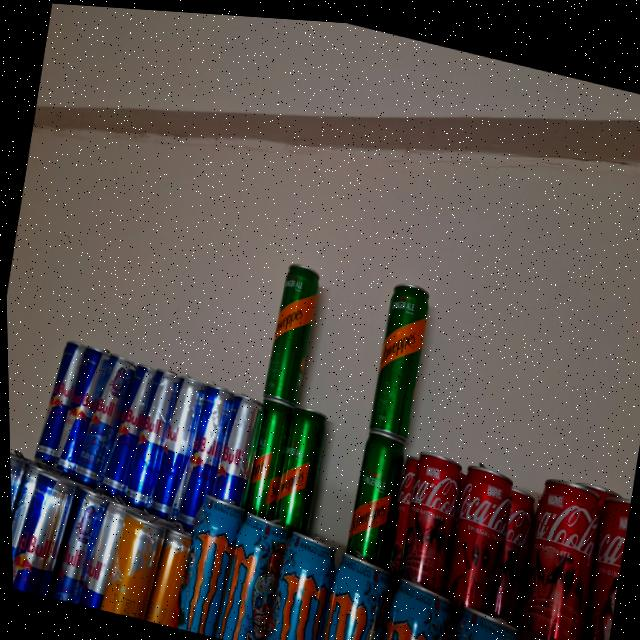Coca Cola: (384, 454, 419, 562)
Coca Cola - Marvel: (512, 464, 603, 640), (441, 457, 517, 608), (397, 443, 467, 582), (572, 483, 631, 640), (488, 486, 540, 617)
Monster Mango Loco: (168, 486, 240, 637), (215, 509, 288, 640), (264, 525, 340, 640), (319, 549, 395, 640), (376, 574, 449, 640), (440, 599, 522, 640), (517, 633, 597, 640)
Redbul: (142, 377, 203, 514), (172, 383, 229, 524), (12, 477, 71, 599), (126, 365, 181, 493), (32, 337, 84, 462), (55, 352, 107, 475), (100, 363, 153, 482), (208, 390, 260, 506), (73, 497, 123, 611)
Redbull DanceYourStyle: (75, 351, 134, 479), (49, 490, 108, 608), (8, 455, 32, 589)
Redbull Yellow Edition: (91, 508, 167, 621), (144, 533, 188, 626)
Schweppes: (366, 273, 434, 435), (261, 250, 321, 401), (343, 428, 402, 559), (270, 406, 320, 521), (244, 398, 286, 513)
